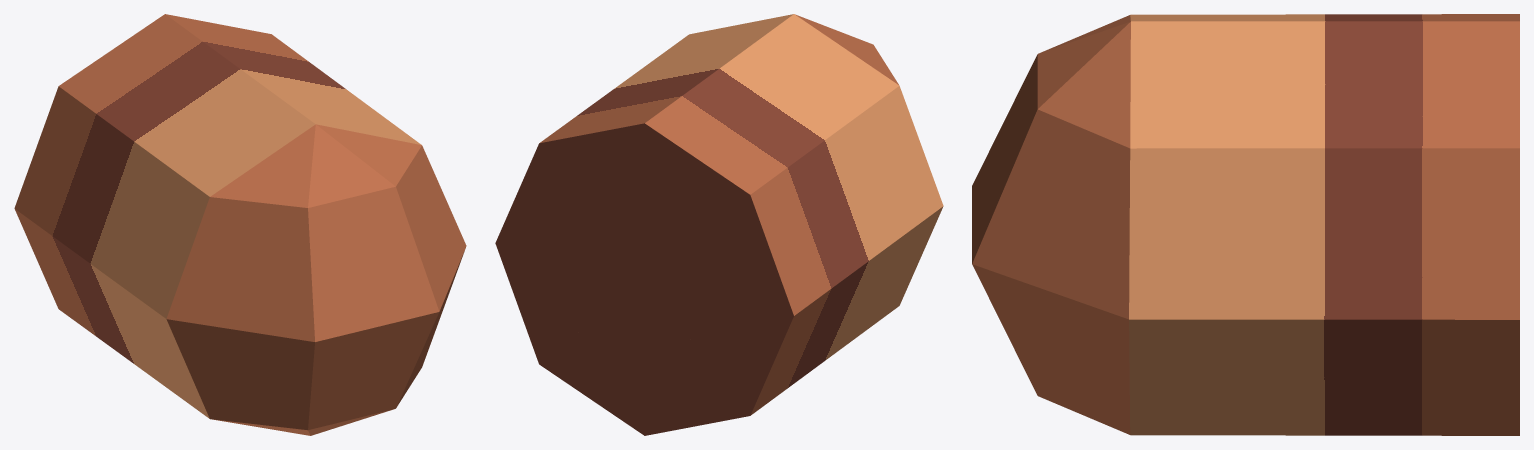
File: Bullet.fbx
3 views of the same model, side by side, from view 1: azimuth 30°, elevation 25°; view 2: azimuth 150°, elevation 25°; view 3: azimuth 270°, elevation 25° (orthographic). The views are drawn at different scales.
Visible parts, largest first — view 1: _bullet; view 2: _bullet; view 3: _bullet.
Part boxes in pixels (x1=…): _bullet: x1=14, y1=14, x2=466, y2=435; _bullet: x1=495, y1=14, x2=943, y2=435; _bullet: x1=972, y1=14, x2=1519, y2=435.
Bounding box in the file's own units: 21.65 × 21.65 × 26.41.
Materials: 1 (1 with a texture image).
